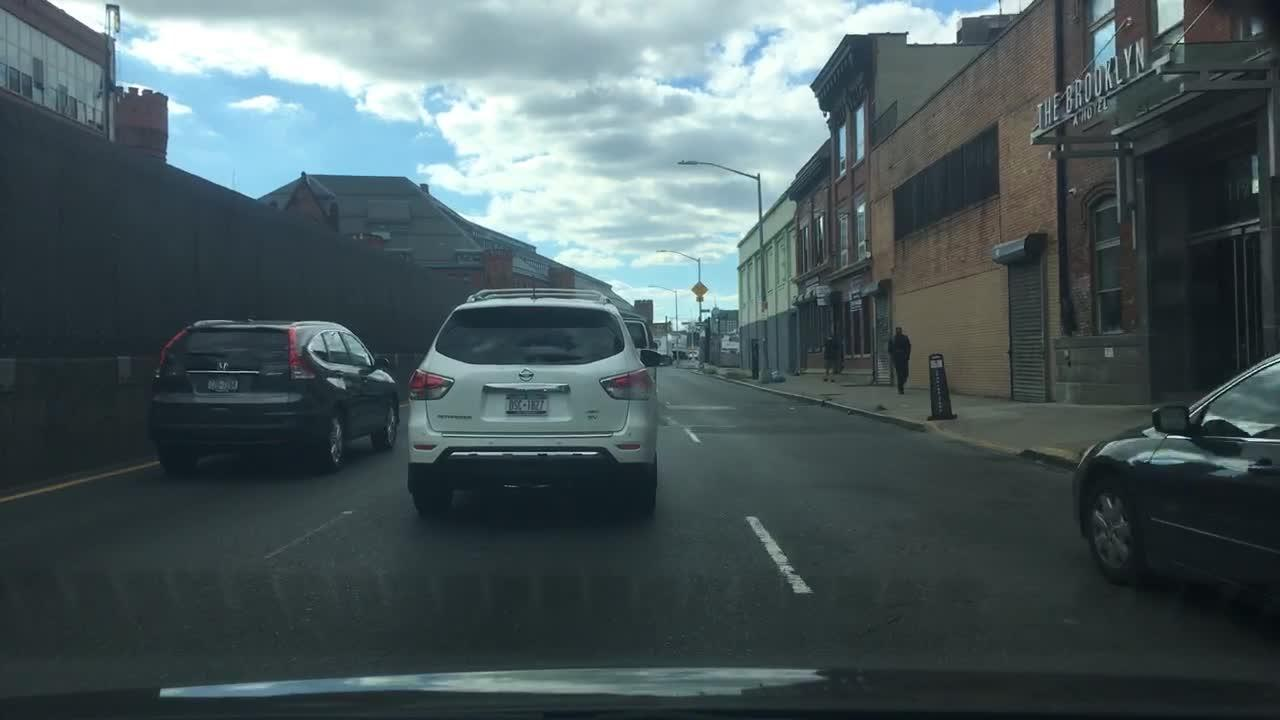Honda: (210, 358, 232, 377)
Nissan: (515, 364, 537, 384)
